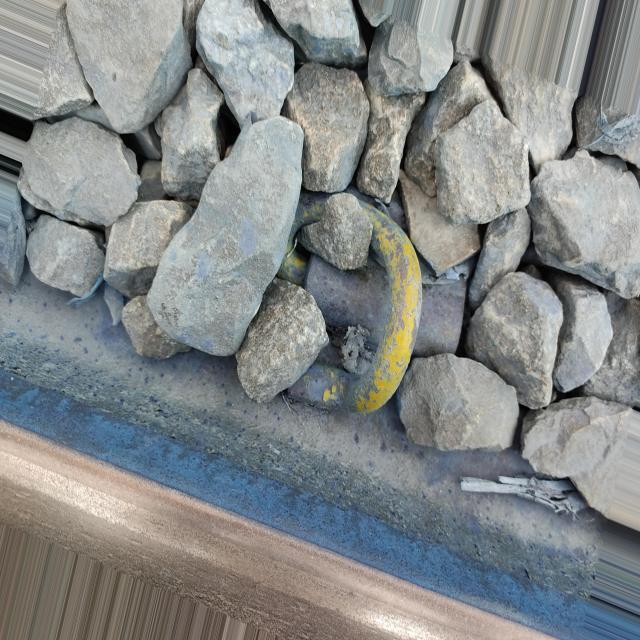Good Fasteners: (278, 189, 475, 412)
